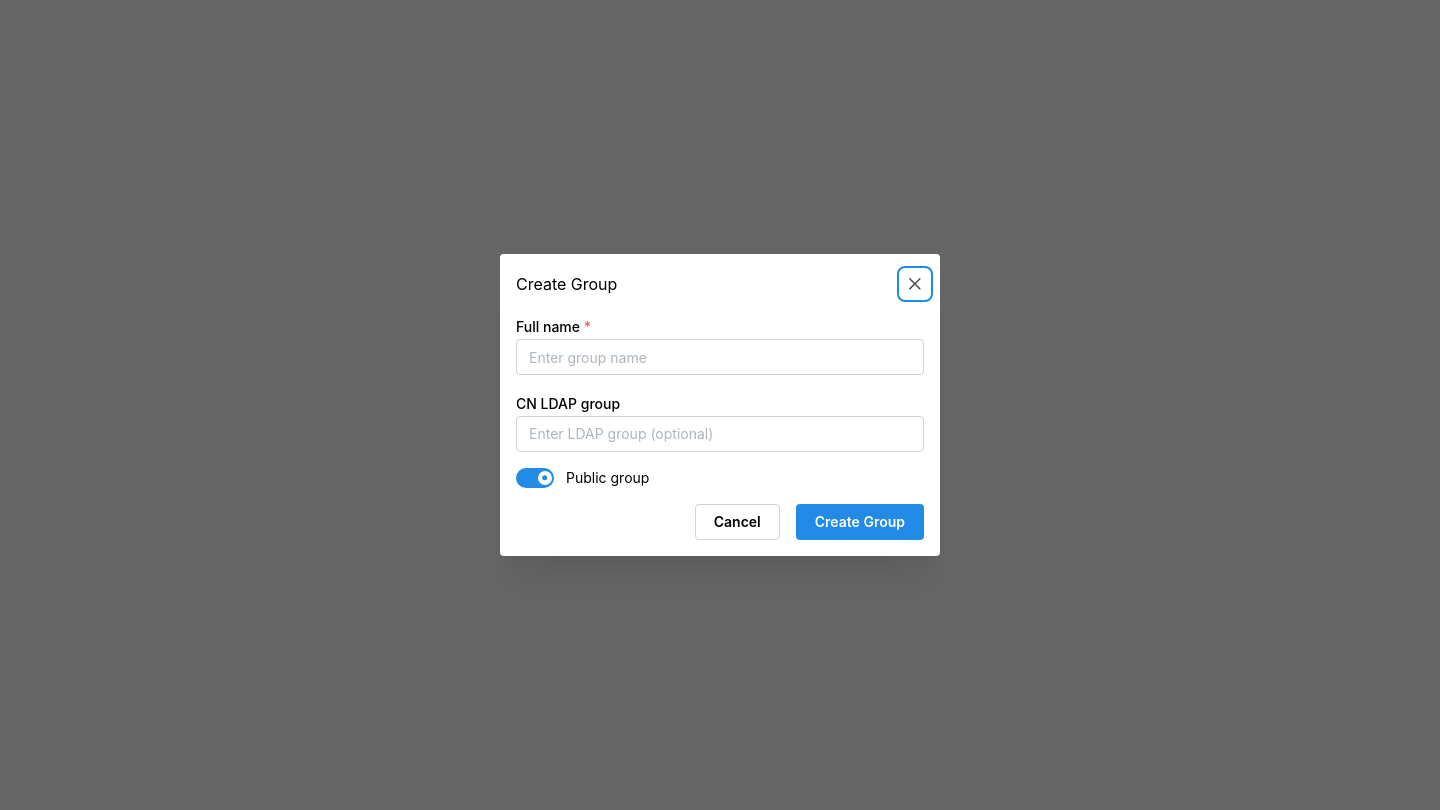
it: CreateGroupModal › cancel behavior › resets form when Cancel is clicked
Type "Some Text" into the field labelled "Full name *" at (720, 357), box x1=516 y1=339 x2=924 y2=375
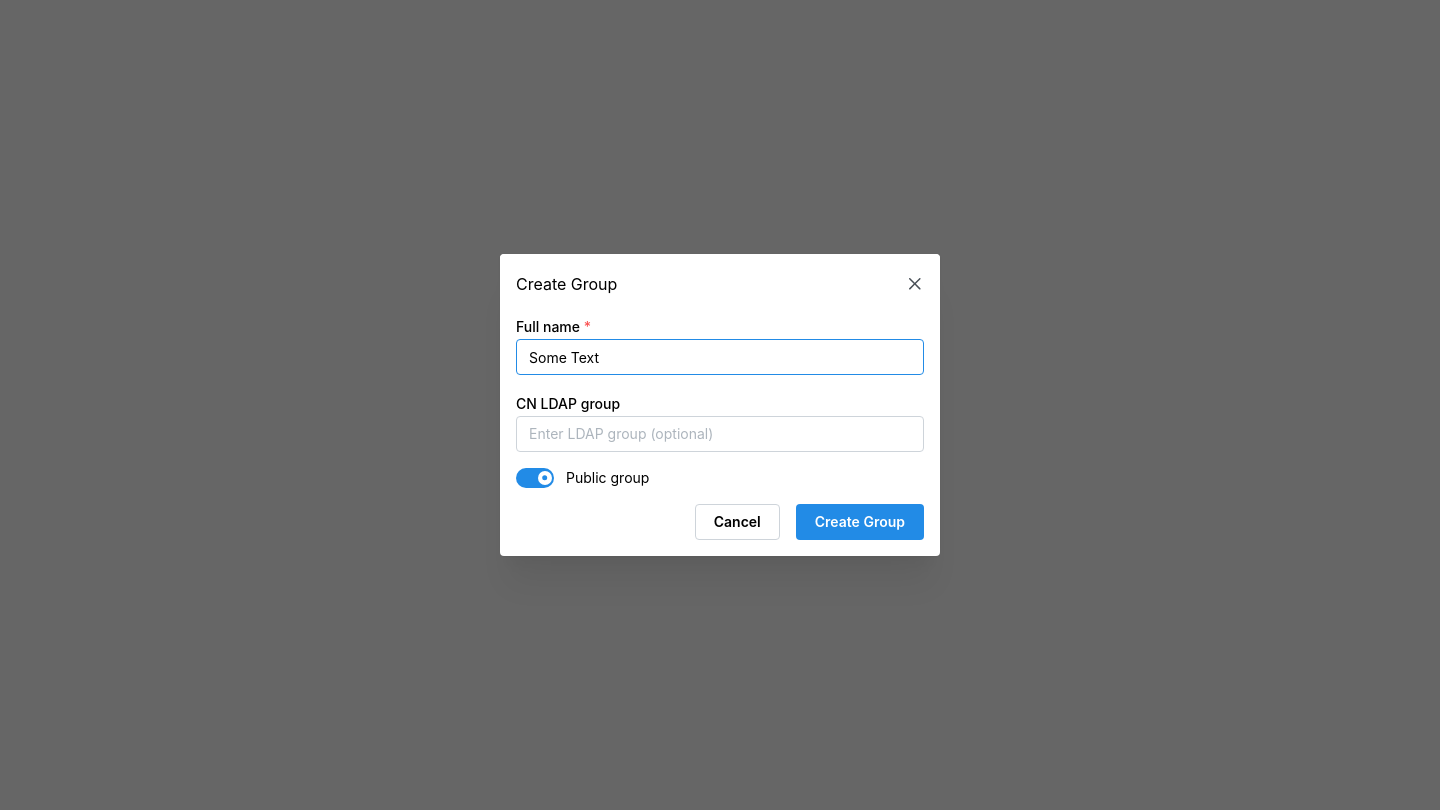
Click the button "Cancel" at (737, 522), box x1=695 y1=504 x2=780 y2=540
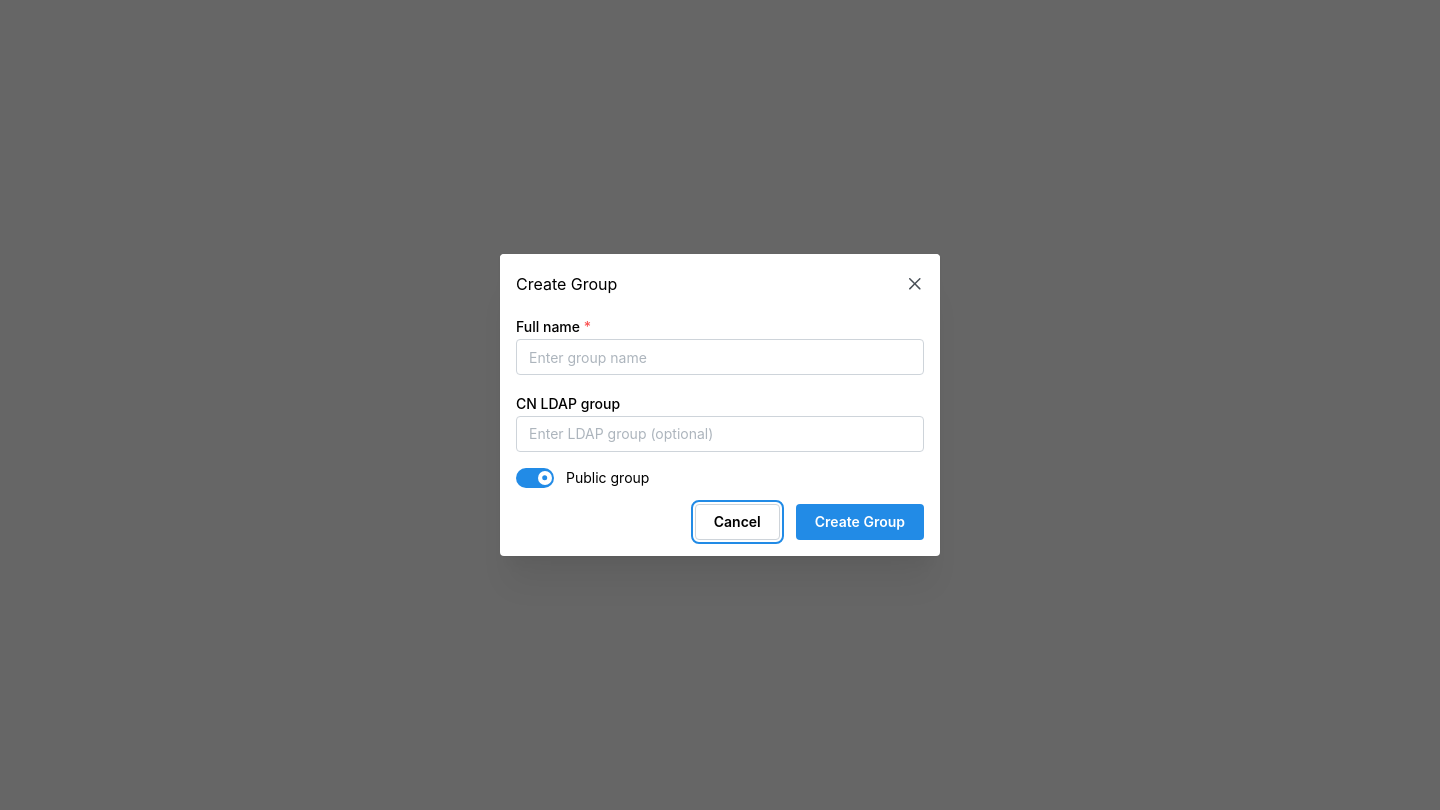
Now the field labelled "Full name *" is empty, box x1=516 y1=339 x2=924 y2=375
